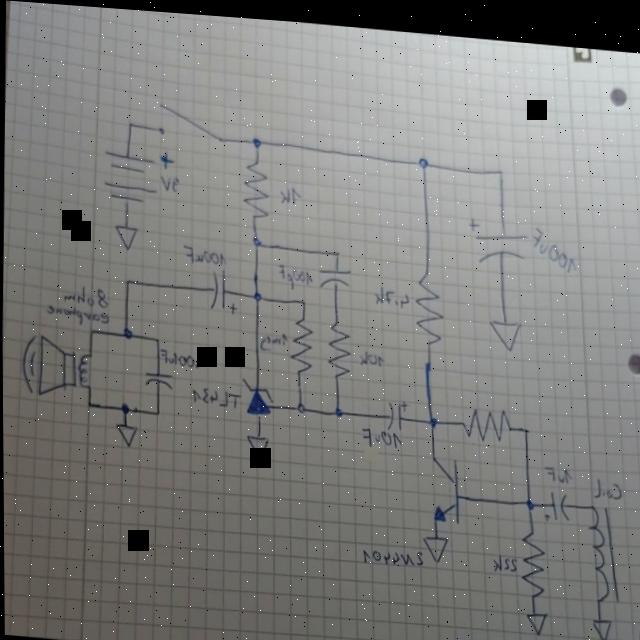capacitor: (468, 209, 531, 260), (208, 265, 239, 311), (542, 481, 570, 515), (317, 260, 353, 284), (385, 392, 408, 426), (143, 366, 175, 387)
ground: (487, 308, 524, 345), (422, 527, 449, 556), (114, 221, 139, 249), (245, 429, 269, 457), (525, 601, 547, 629), (590, 608, 612, 636), (114, 421, 137, 446)
inductor: (585, 494, 621, 595)
junction: (250, 130, 266, 146), (523, 487, 536, 504), (426, 406, 439, 423), (416, 149, 430, 164), (251, 230, 264, 245), (295, 395, 307, 409), (122, 324, 133, 338), (495, 158, 506, 171), (333, 400, 344, 413), (252, 286, 263, 299), (120, 399, 130, 412), (126, 116, 135, 128), (522, 417, 530, 427), (85, 398, 93, 408), (124, 274, 132, 284), (334, 243, 342, 253), (299, 293, 307, 302), (88, 325, 95, 333), (154, 405, 160, 414), (155, 333, 161, 342)
resistor: (413, 263, 446, 342), (459, 396, 514, 436), (519, 520, 546, 591), (242, 155, 271, 216), (325, 313, 352, 374), (288, 311, 315, 370)
source: (102, 143, 175, 205)
switch: (157, 99, 225, 140)
text: (530, 219, 578, 267), (361, 538, 426, 563), (44, 302, 108, 323), (191, 380, 242, 406), (63, 281, 109, 307), (361, 419, 403, 444), (277, 259, 315, 286), (183, 241, 227, 264), (371, 278, 412, 302), (160, 344, 199, 366), (593, 468, 623, 492), (542, 456, 573, 477), (491, 544, 519, 567), (260, 326, 288, 348), (158, 170, 182, 192), (278, 180, 302, 201), (357, 344, 384, 361)
thyristor: (242, 375, 275, 413)
transistor: (429, 445, 460, 518)
